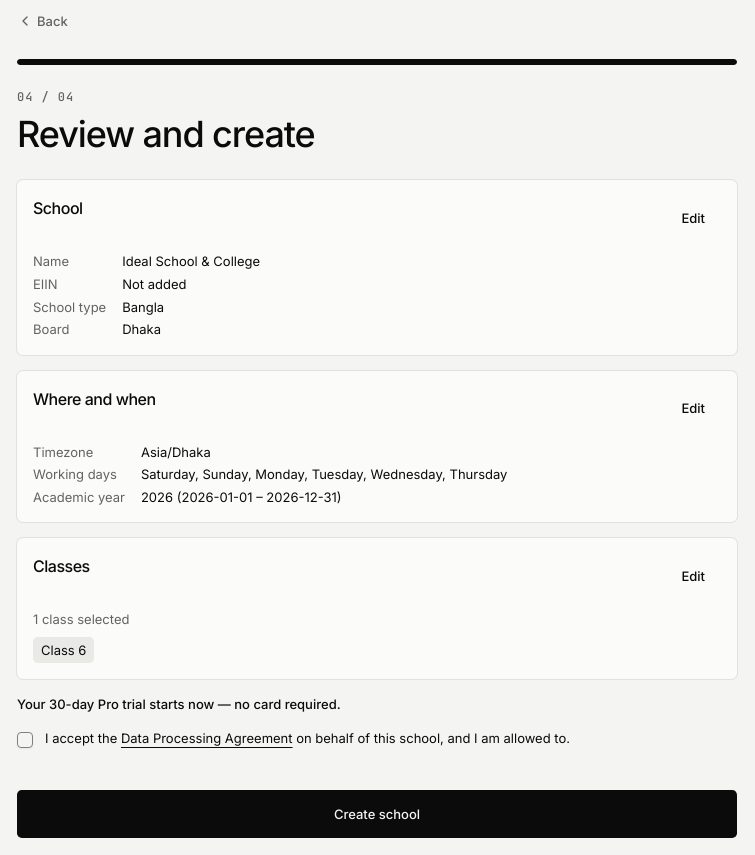
Test: step 4 — review and create › Edit jumps back to that step
Step 1. Click the button "Edit" in the row of "Classes" → (693, 576), box [665,554,721,598]
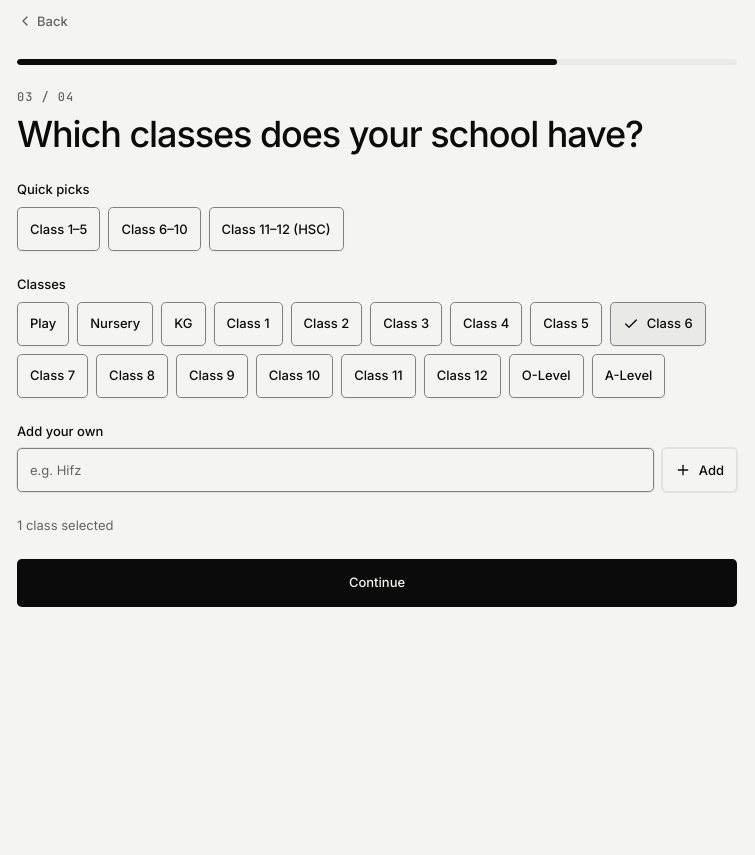
Now the heading "Which classes does your school have?" is shown, box [17,113,737,156]
